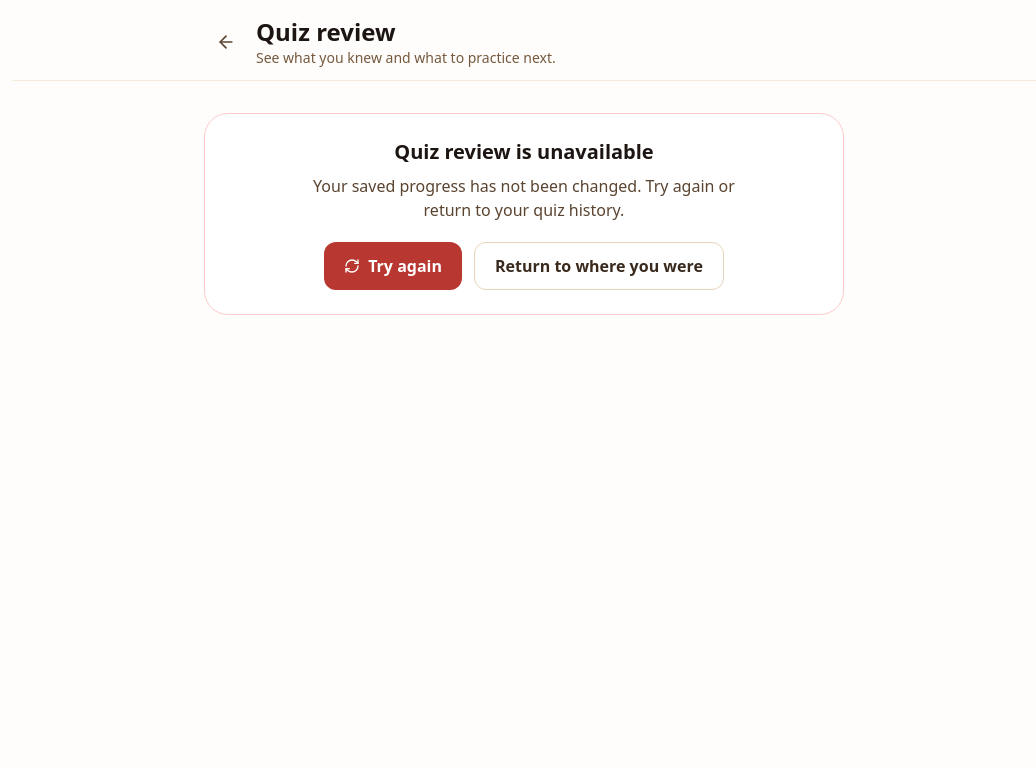
Test: progress pages › does not mislabel another safe quiz-review return as quiz history
What coordinates should you click on to do the following:
click the link named "Back to where you were"
I would click on:
 (226, 42)
Its box is [216,32,236,52].
(page scrolled)
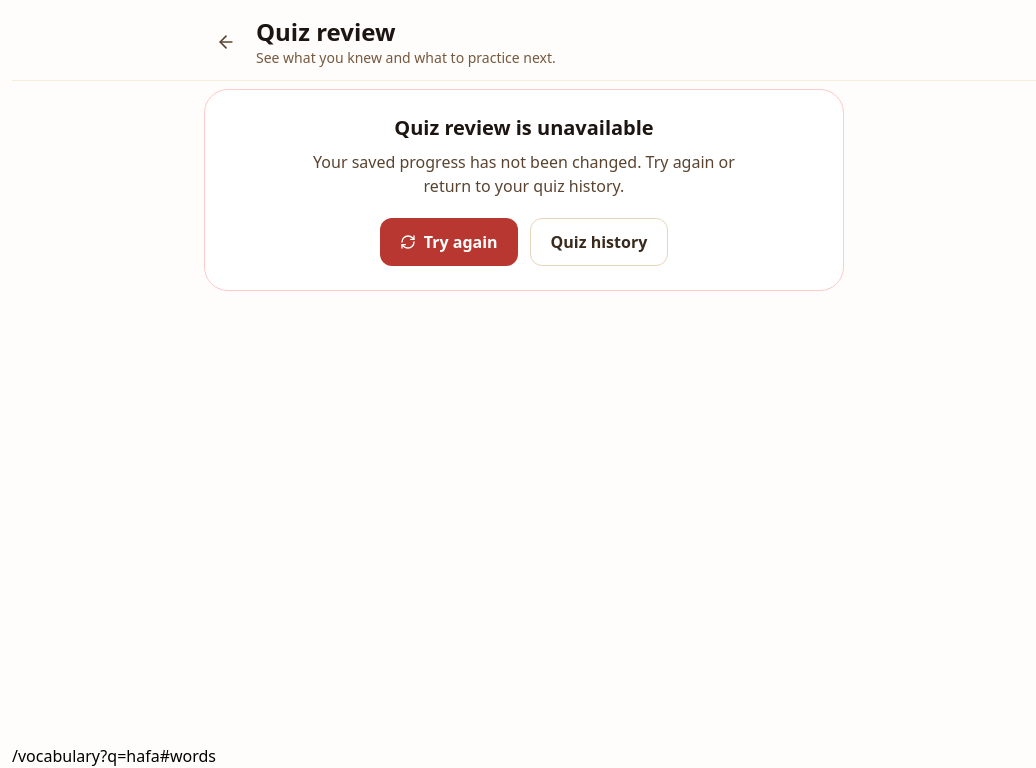
Expected: the text with test id "location" reads "/vocabulary?q=hafa#words", [12,745,216,767]
